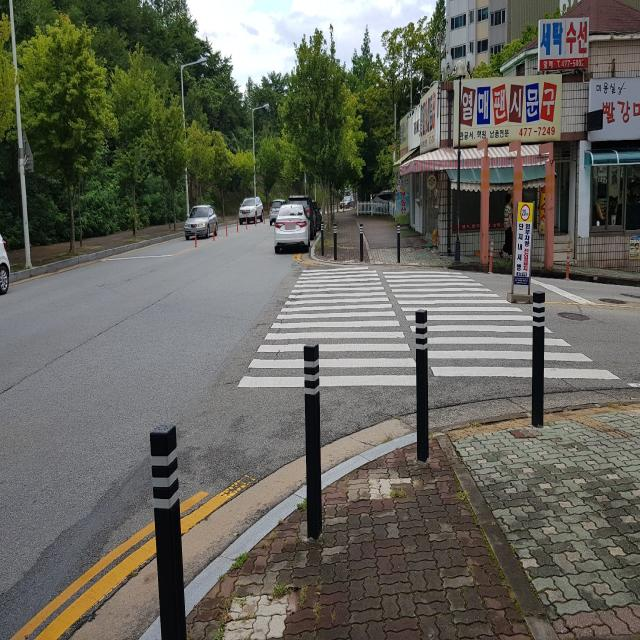횡단보도: (238, 267, 620, 388)
